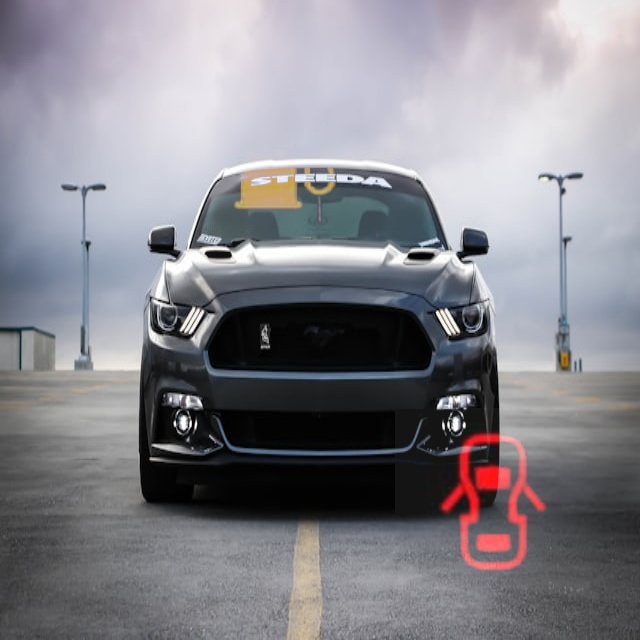symbol: (179, 51, 391, 263), (395, 408, 592, 605)
